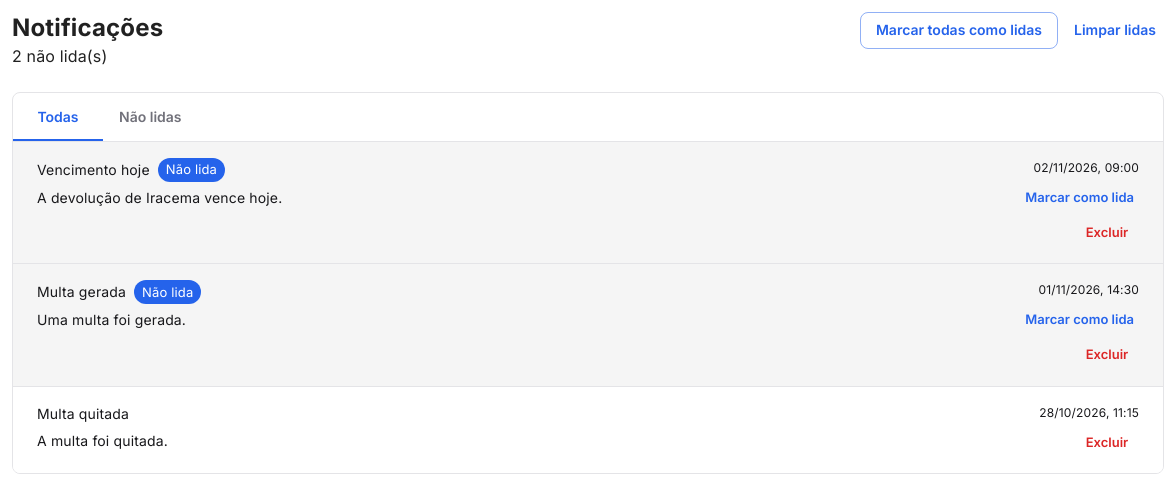
Test: filtra as notificações ao clicar na aba Não lidas
Click the tab "Não lidas": (150, 117) [103,93,198,141]
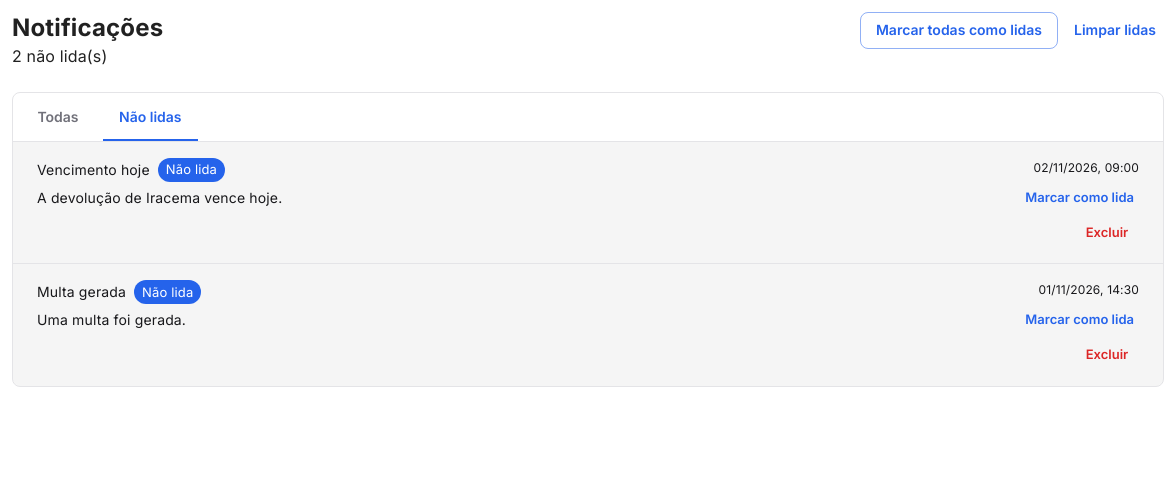
Check: the text "A devolução de Iracema vence hoje." is shown, box [37,188,282,208]
Check: the text "A multa foi quitada." is gone
